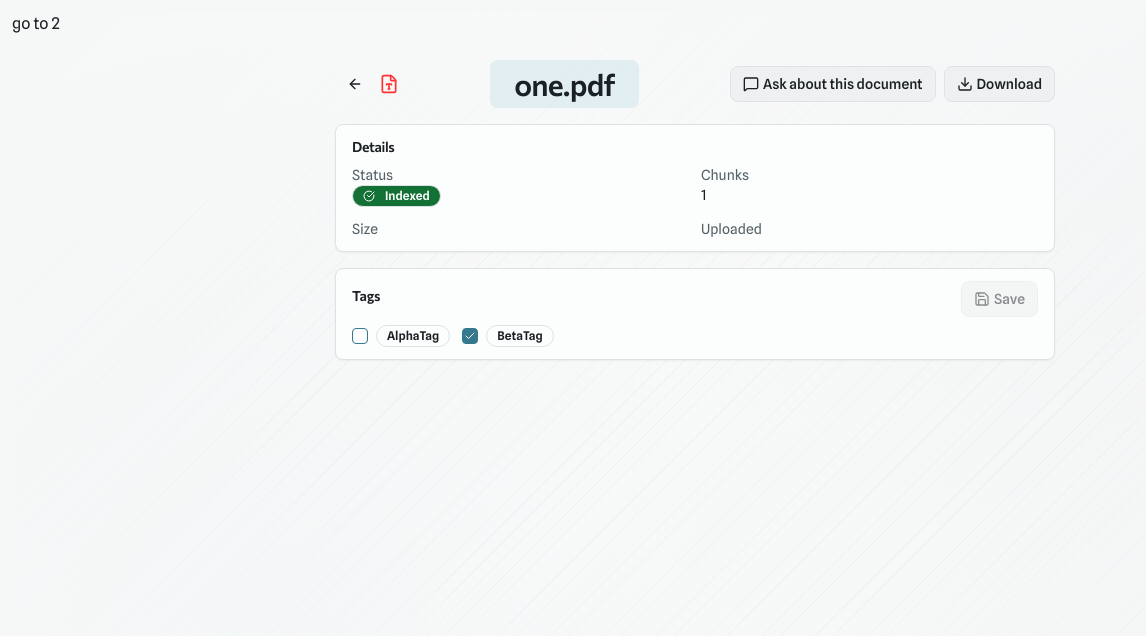
Test: DocumentDetailPage preview — in-flight blob request aborted on previewable→non-previewable navigation (F-001) › aborts doc1's pending blob fetch when the user navigates to a non-previewable document
Click the link with test id "nav-to-2": point(36, 24) [12, 14, 60, 33]
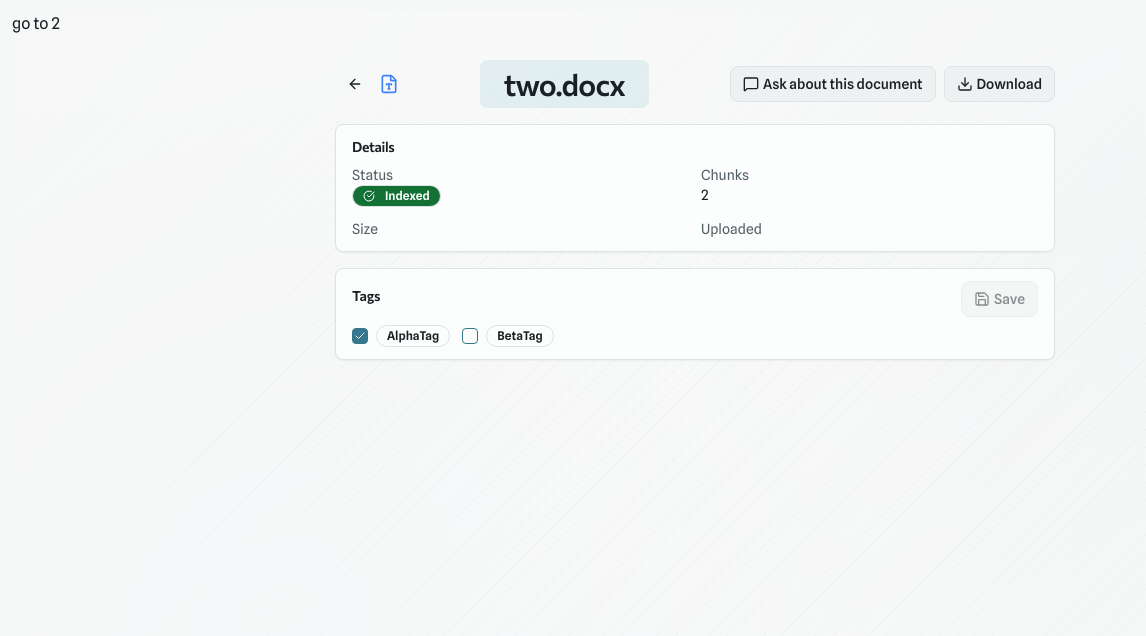
Result: the heading "two.docx" is shown at [504, 66, 625, 102]
